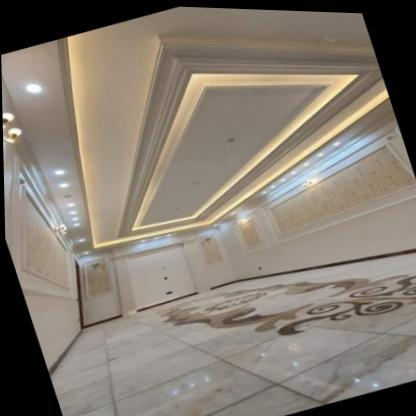Futec frame: (253, 127, 416, 245)
Gypsum Board: (1, 5, 396, 263)
